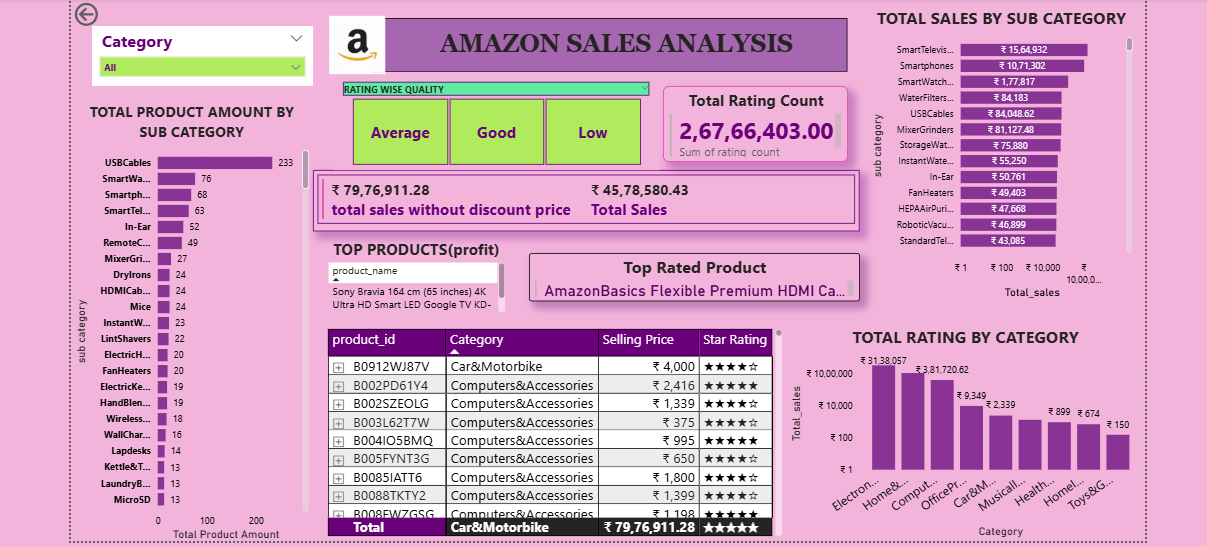

The dashboard page shown, as its layout file describes it:
{"tool":"powerbi","page":{"name":"Page 1","canvas":[1400,706],"ordinal":0},"visuals":[{"type":"shape","box":[341.5,24.4,670.1,70.3],"z":0},{"type":"image","box":[268.3,17.2,208.1,86.1],"z":1000},{"type":"textbox","box":[475.7,34.6,529.9,51.2],"z":2000},{"type":"columnChart","title":"TOTAL RATING BY CATEGORY","fields":{"Category":["amazon.category"],"Y":["amazon.Total_sales"]},"box":[931.8,424.5,468.2,281.5],"z":3000},{"type":"clusteredBarChart","title":"TOTAL SALES BY SUB CATEGORY","fields":{"Category":["amazon.sub category"],"Y":["amazon.Total_sales"]},"box":[1037.2,9,350.8,385.4],"z":4000},{"type":"tableEx","title":"TOP PRODUCTS(profit)","fields":{"Values":["amazon.product_name"]},"box":[329.7,311.6,240.9,102.4],"z":5000},{"type":"slicer","fields":{"Values":["amazon.category"]},"box":[27.1,34.6,287.5,78.3],"z":6000},{"type":"clusteredBarChart","title":"TOTAL PRODUCT AMOUNT BY SUB CATEGORY","fields":{"Category":["amazon.sub category"],"Y":["amazon.Total Product Amount"]},"box":[0,134,314.6,576.6],"z":7000},{"type":"multiRowCard","fields":{"Values":["amazon.total sales without discount price","amazon.Total_sales"]},"box":[314.6,222.8,712,79.8],"z":8000},{"type":"actionButton","box":[0,0,100,40],"z":9000},{"type":"multiRowCard","title":"Top Rated Product","fields":{"Values":["amazon.product_name"]},"box":[596.1,331.2,430.5,63.2],"z":10000},{"type":"multiRowCard","title":"Total Rating Count","fields":{"Values":["Sum(amazon.rating_count)"]},"box":[770.8,112.9,240.9,99.4],"z":11000},{"type":"pivotTable","fields":{"Rows":["amazon.product_id","amazon.product_name"],"Values":["Min(amazon.category)","Sum(amazon.actual_price)","amazon.rating star rating"]},"box":[329.7,424.5,602.2,280],"z":12000},{"type":"slicer","fields":{"Values":["amazon.Rating wise quality"]},"box":[341.7,102.4,424.5,120.4],"z":13000}]}

Visuals, with their boxes on the page's 1400x706 design canvas (x1, y1, x2, y2). These are canvas units, not pixel positions in the 1207x546 screenshot, which may show the page scaled, cropped or inside an application window:
shape: Rect(342, 24, 1012, 95)
image: Rect(268, 17, 476, 103)
textbox: Rect(476, 35, 1006, 86)
"TOTAL RATING BY CATEGORY" columnChart: Rect(932, 424, 1400, 706)
"TOTAL SALES BY SUB CATEGORY" clusteredBarChart: Rect(1037, 9, 1388, 394)
"TOP PRODUCTS(profit)" tableEx: Rect(330, 312, 571, 414)
slicer - amazon.category: Rect(27, 35, 315, 113)
"TOTAL PRODUCT AMOUNT BY SUB CATEGORY" clusteredBarChart: Rect(0, 134, 315, 711)
multiRowCard - amazon.total sales without discount price x amazon.Total_sales: Rect(315, 223, 1027, 303)
actionButton: Rect(0, 0, 100, 40)
"Top Rated Product" multiRowCard: Rect(596, 331, 1027, 394)
"Total Rating Count" multiRowCard: Rect(771, 113, 1012, 212)
pivotTable - amazon.product_id x amazon.product_name: Rect(330, 424, 932, 704)
slicer - amazon.Rating wise quality: Rect(342, 102, 766, 223)
